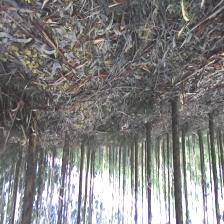trunk: (22, 140, 40, 219), (209, 114, 220, 210), (172, 97, 182, 198), (58, 134, 70, 214), (78, 138, 86, 220), (146, 124, 152, 216), (83, 149, 90, 216), (182, 133, 188, 204), (199, 133, 205, 204), (135, 142, 138, 210), (168, 134, 170, 198)
